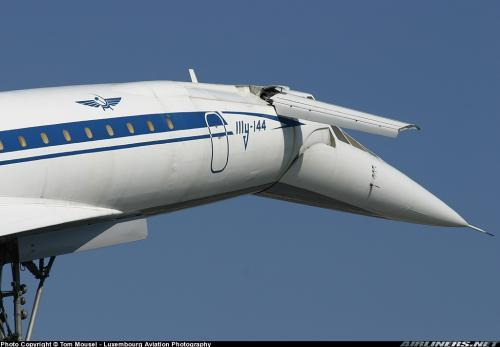airplane: (1, 77, 497, 246)
